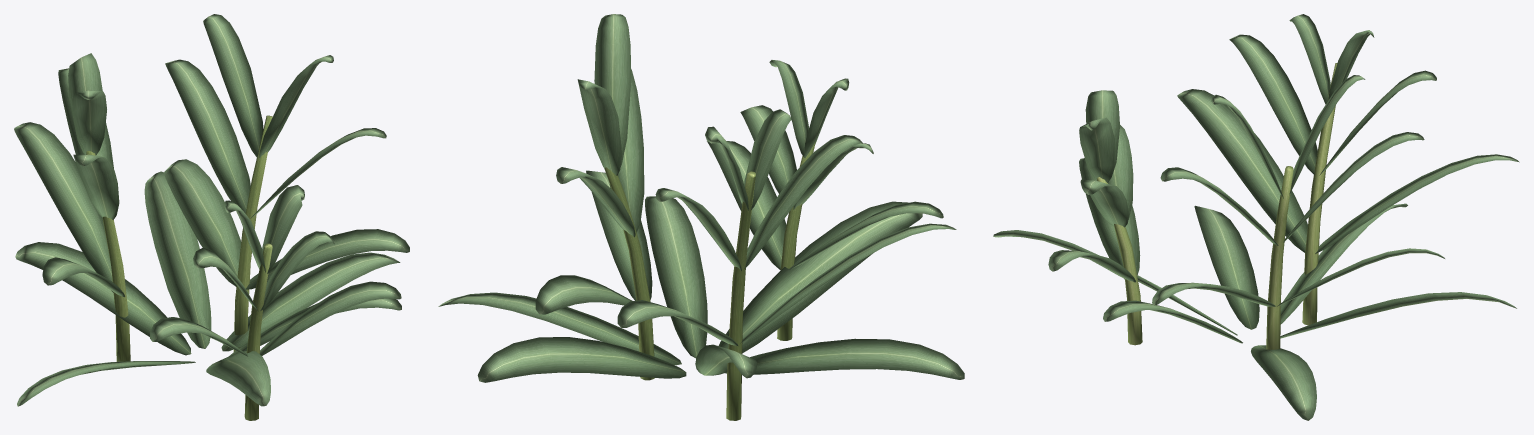
The model's file is NP_Lavender_Young_LOD1.fbx.
The picture shows the model from 3 angles, left to right: view 1: azimuth 30°, elevation 25°; view 2: azimuth 150°, elevation 25°; view 3: azimuth 270°, elevation 25°; orthographic projection. The views are drawn at different scales.
Parts seen in each view (by area): view 1: NP_Lavender_Young; view 2: NP_Lavender_Young; view 3: NP_Lavender_Young.
Boxes of the visible parts, x1,y1,x2,y2 form: NP_Lavender_Young: (14,14,409,420); NP_Lavender_Young: (438,14,964,420); NP_Lavender_Young: (993,14,1519,420).
Bounding box in the file's own units: 34.93 × 23.15 × 36.76.
